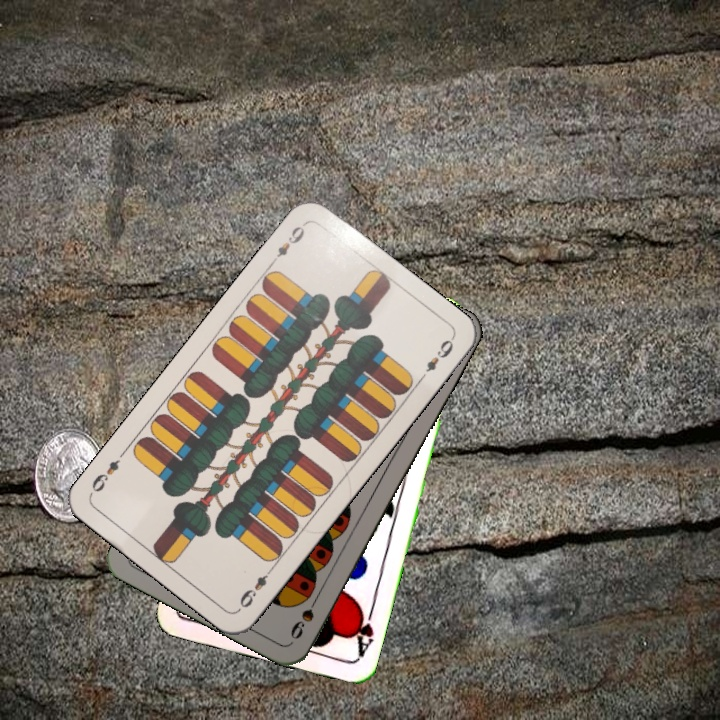E9: (266, 219, 309, 268), (234, 563, 276, 613)
HA: (347, 602, 377, 660)
S9: (286, 588, 323, 642)
